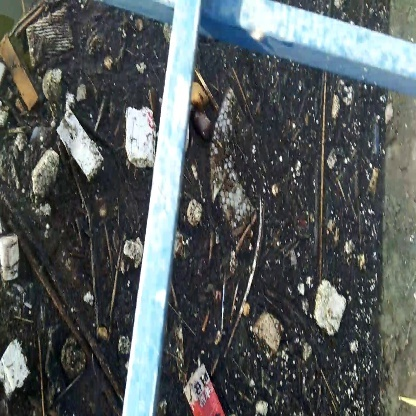milk-box: (55, 108, 108, 183), (175, 359, 229, 416)
